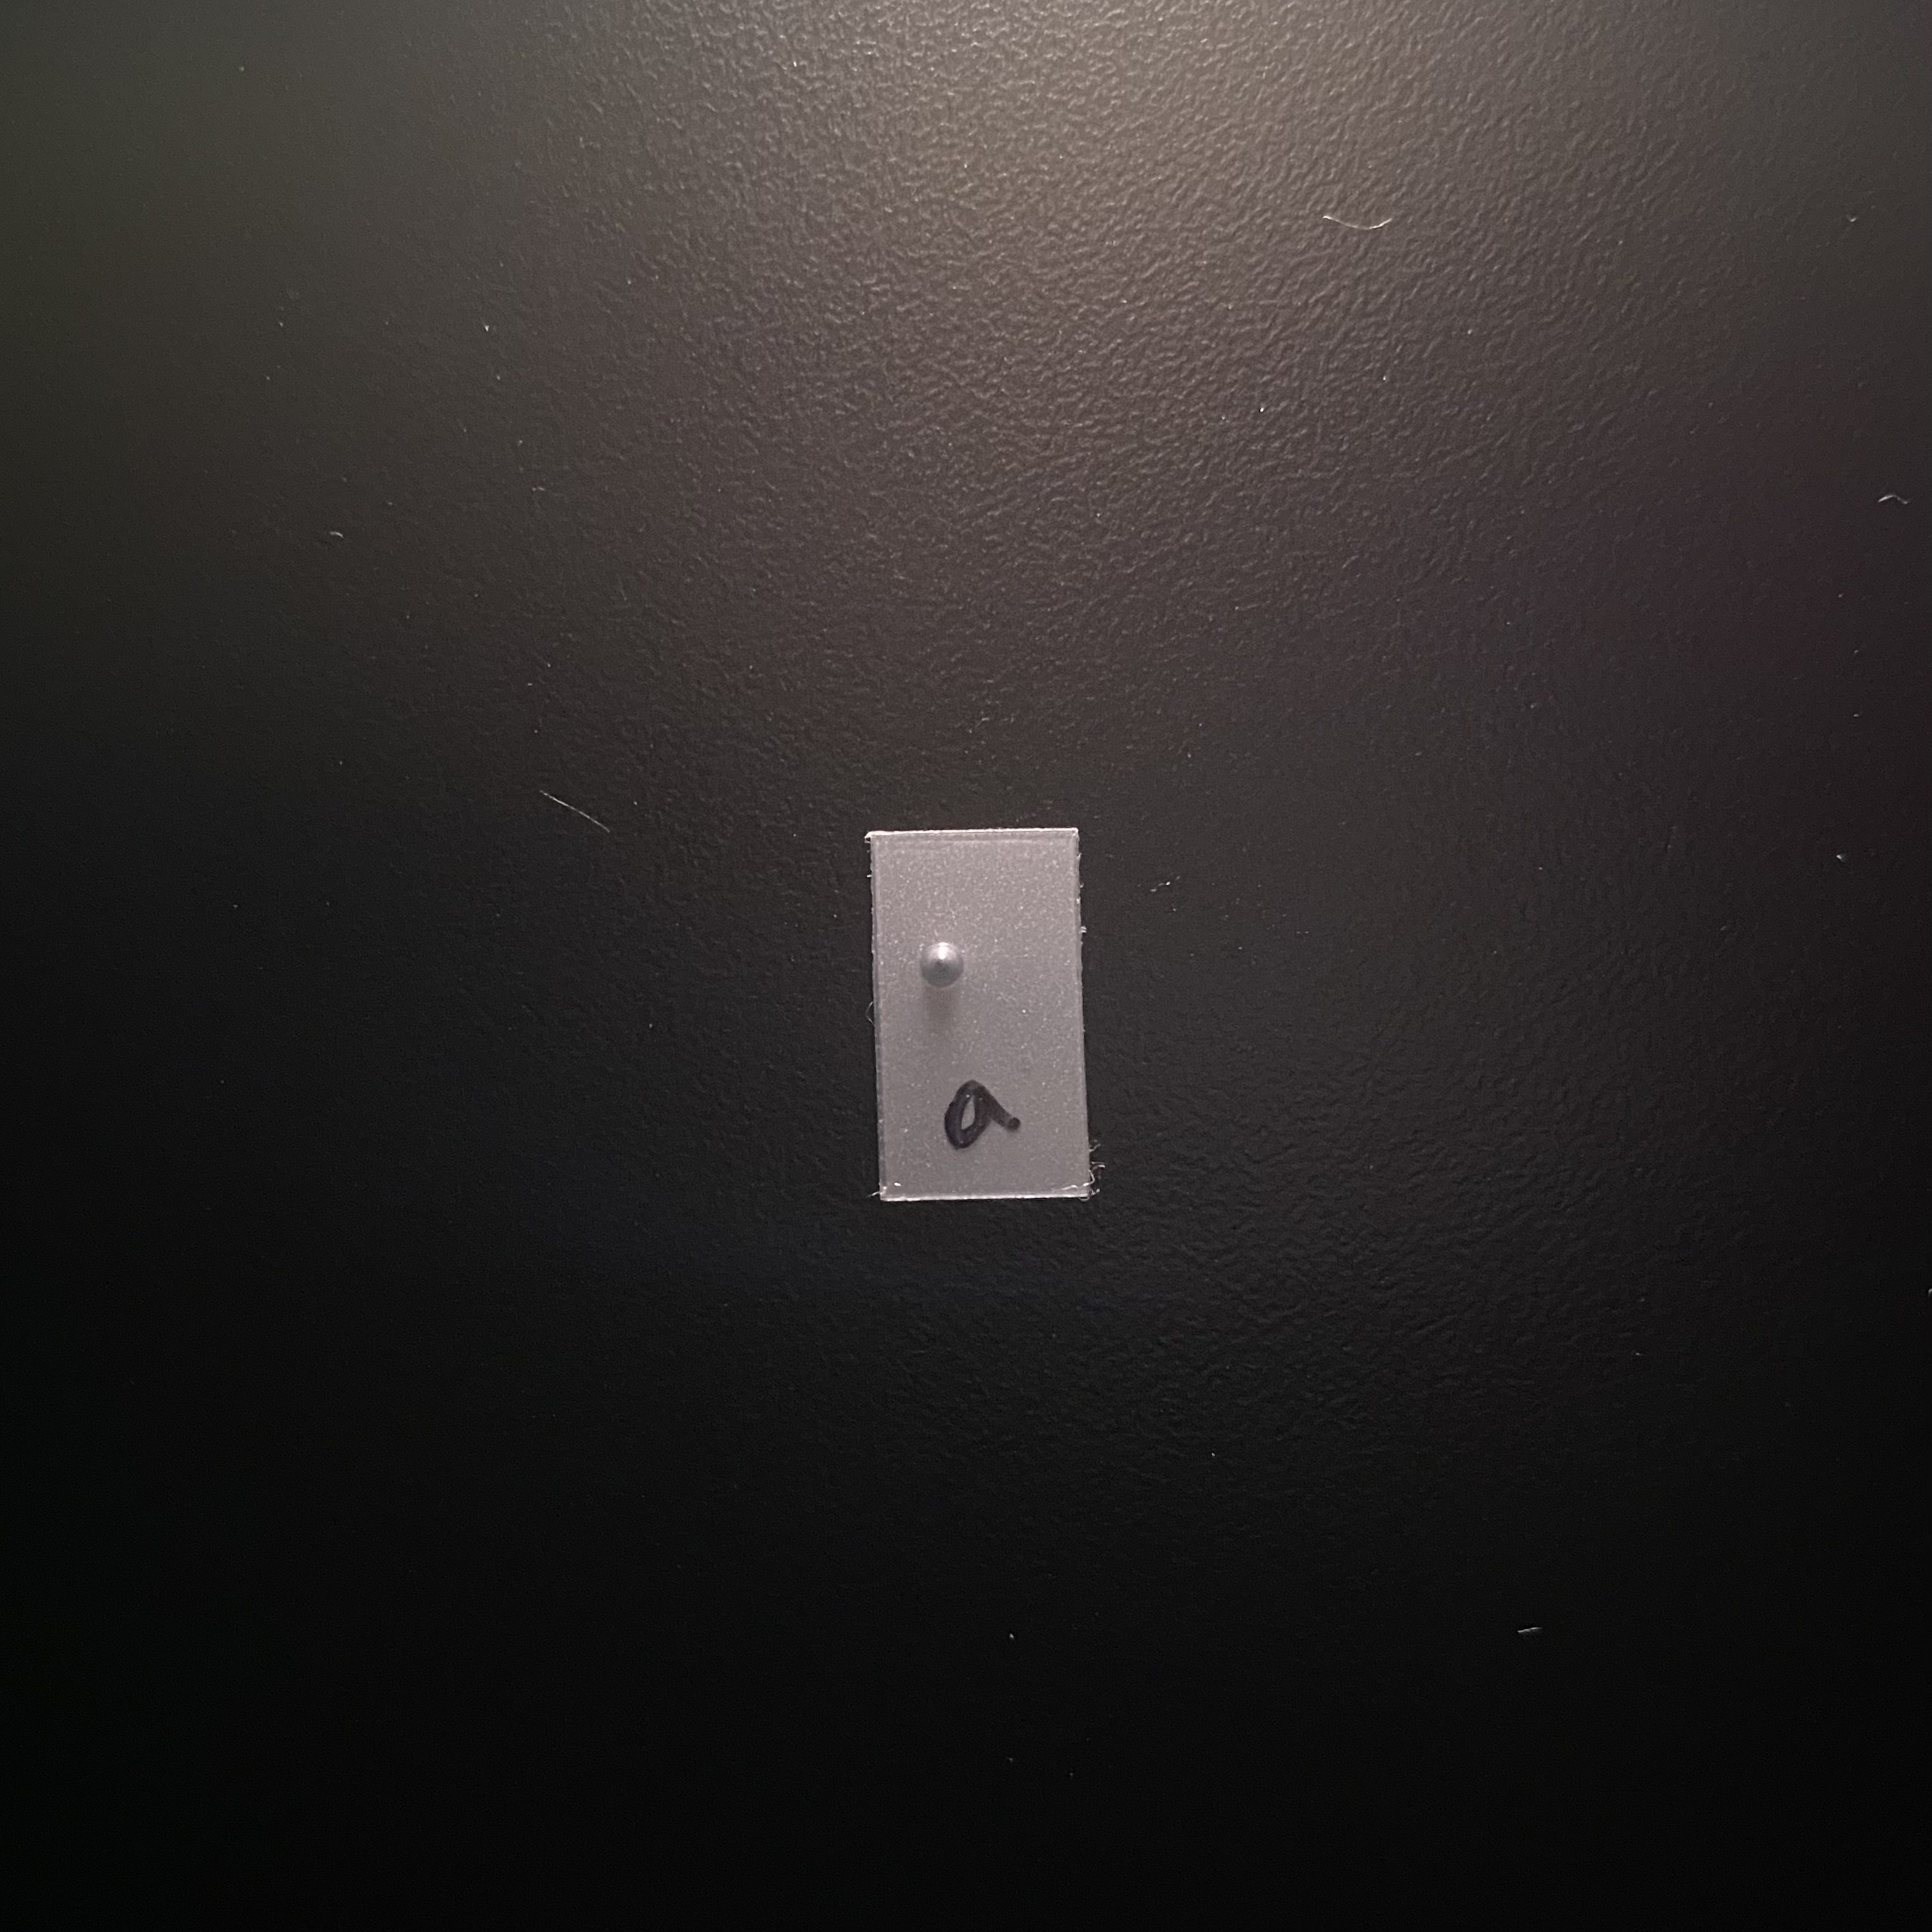a: (913, 896, 1054, 1161)
